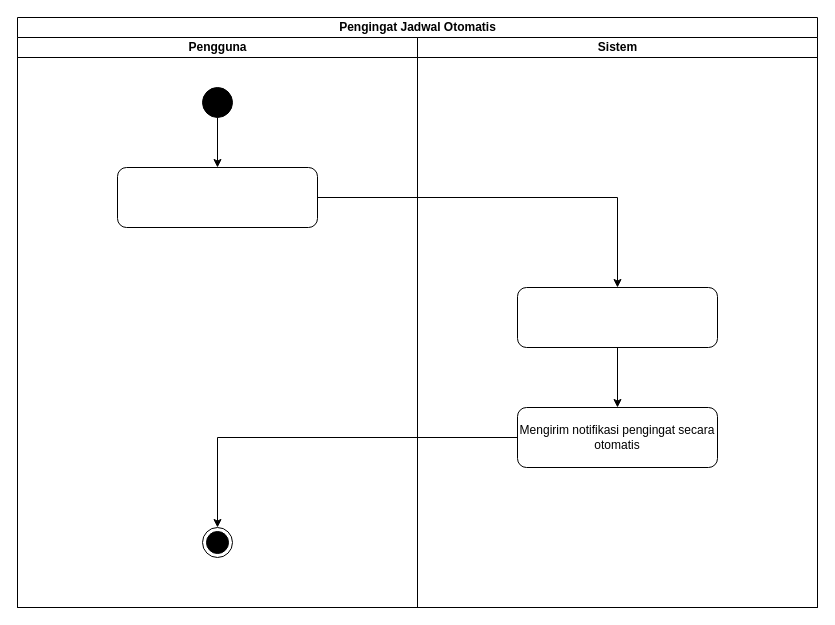
Image size: 835x625. Some labels were removed from this diagram. Here are the shapes that lost their labels. From the top down, the centre of each, then its label:
pixel 217 197: Menerima email/push notifikasi H-1 acara
pixel 617 317: Mengecek jadwal booking besok
